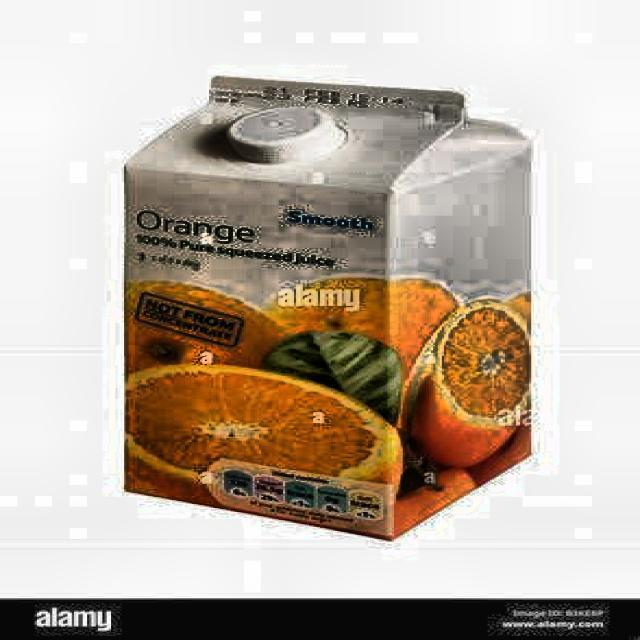cardboard: (120, 74, 536, 540)
